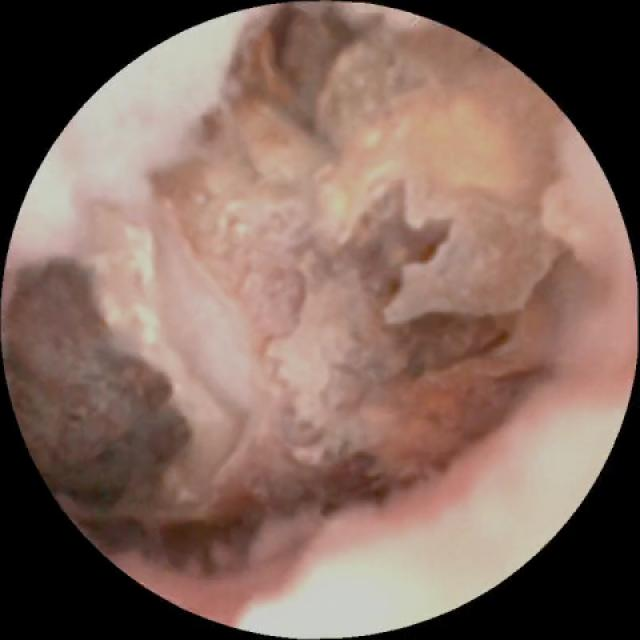stone: (87, 7, 596, 575), (3, 253, 186, 510)
